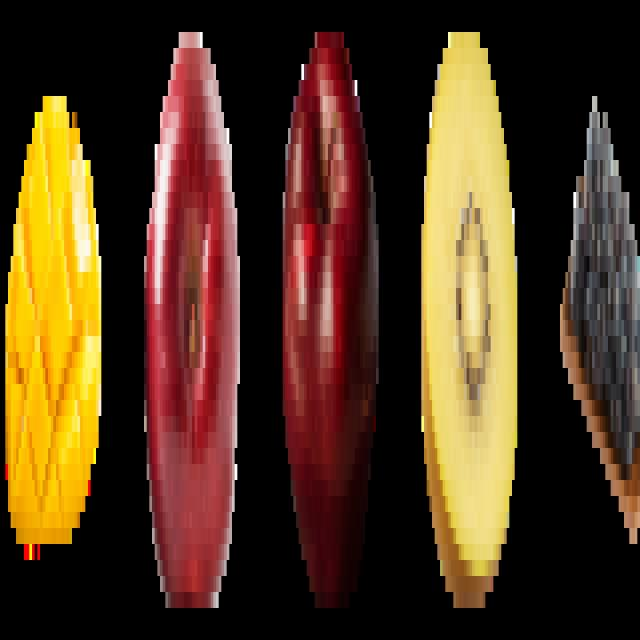apple: (278, 16, 381, 622), (138, 19, 242, 617)
kiwifruit: (418, 22, 520, 620)
mango: (4, 73, 105, 567)
